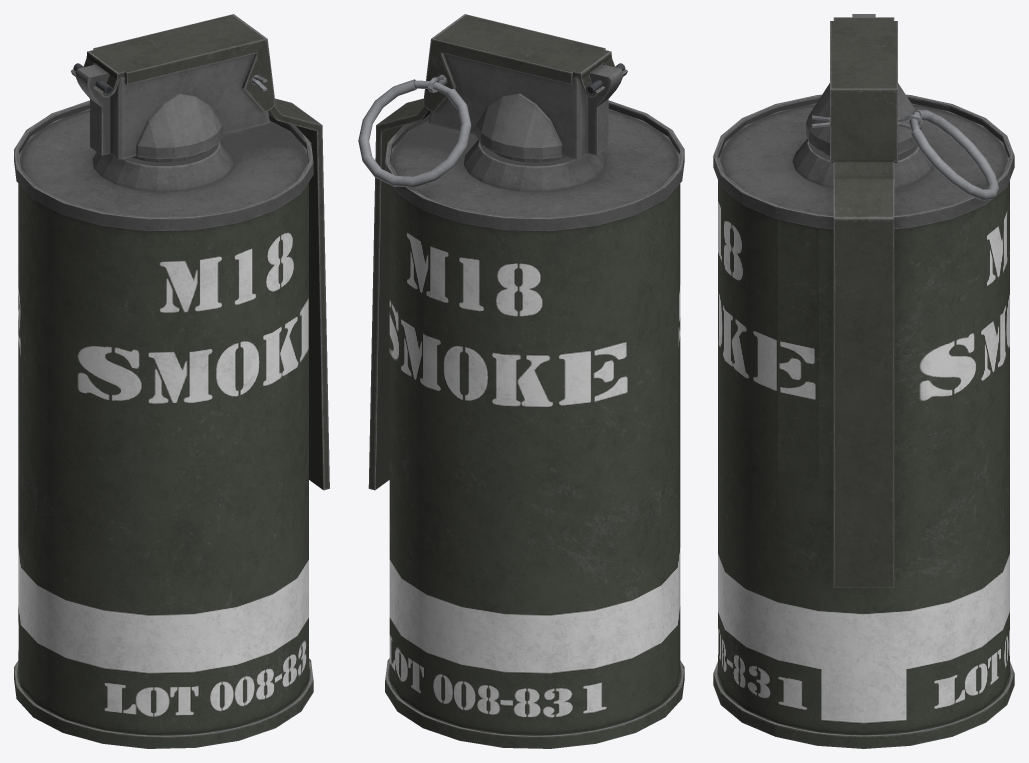
Rendered from smoke_grenade.glb.
3 renders of one model, left to right at view 1: azimuth 30°, elevation 25°; view 2: azimuth 150°, elevation 25°; view 3: azimuth 270°, elevation 25°, orthographic.
Parts seen in each view (by area): view 1: Object_3, Object_2; view 2: Object_3, Object_2; view 3: Object_3, Object_2.
Boxes of the visible parts, x1=… form: Object_3: x1=14, y1=100, x2=313, y2=748; Object_2: x1=71, y1=14, x2=329, y2=490; Object_3: x1=385, y1=100, x2=684, y2=748; Object_2: x1=358, y1=14, x2=627, y2=490; Object_3: x1=713, y1=94, x2=1014, y2=748; Object_2: x1=806, y1=14, x2=998, y2=587.
Size of the model in its own units: 9.49 by 20.56 by 8.8.
2 materials, 2 textured.
